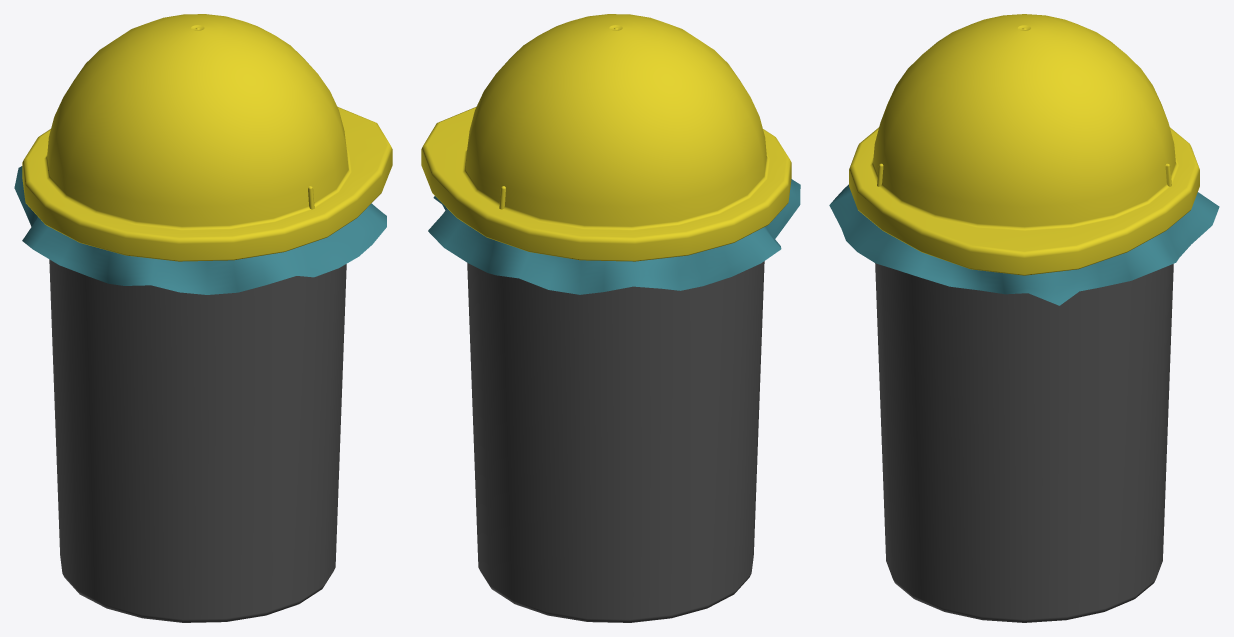
Rendered from gog_art-room_bin_mesh.fbx.
3 views of the same model, side by side, from view 1: azimuth 30°, elevation 25°; view 2: azimuth 150°, elevation 25°; view 3: azimuth 270°, elevation 25° (orthographic).
Parts seen in each view (by area): view 1: pCylinder4; view 2: pCylinder4; view 3: pCylinder4.
Part boxes in pixels (left/top/right/bottom): pCylinder4: left=14, top=14, right=392, bottom=622; pCylinder4: left=421, top=14, right=800, bottom=622; pCylinder4: left=829, top=14, right=1219, bottom=622.
Bounding box in the file's own units: 78.96 × 118 × 77.23.
